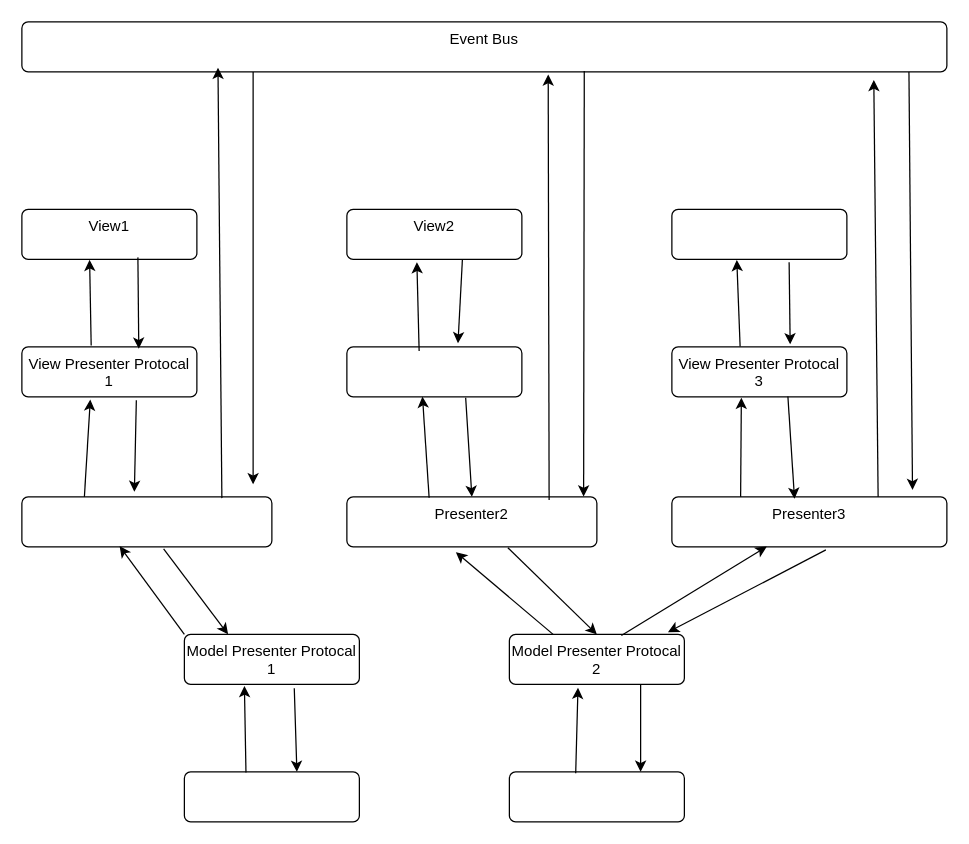
This 969x844 diagram has some shape labels left out. Each missing label, with the centre of its shape:
"Model1" goes at pixel 271 796.
"Model2" goes at pixel 596 796.
"Presenter1" goes at pixel 146 521.
"View Presenter Protocal 2" goes at pixel 434 371.
"View3" goes at pixel 759 233.
